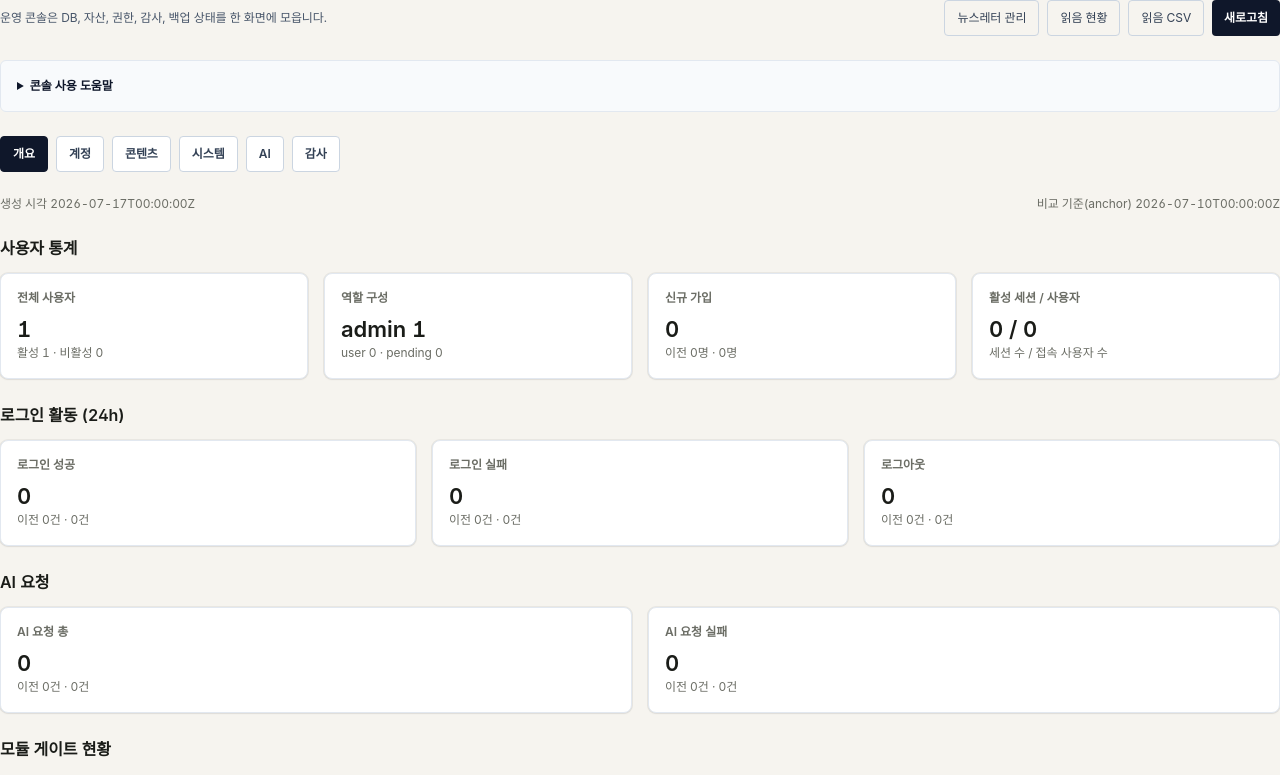
Test: re-entering an already-loaded group does not refetch (per-group cache)
Click the tab "계정" at point(80, 154), box x1=56 y1=136 x2=104 y2=172
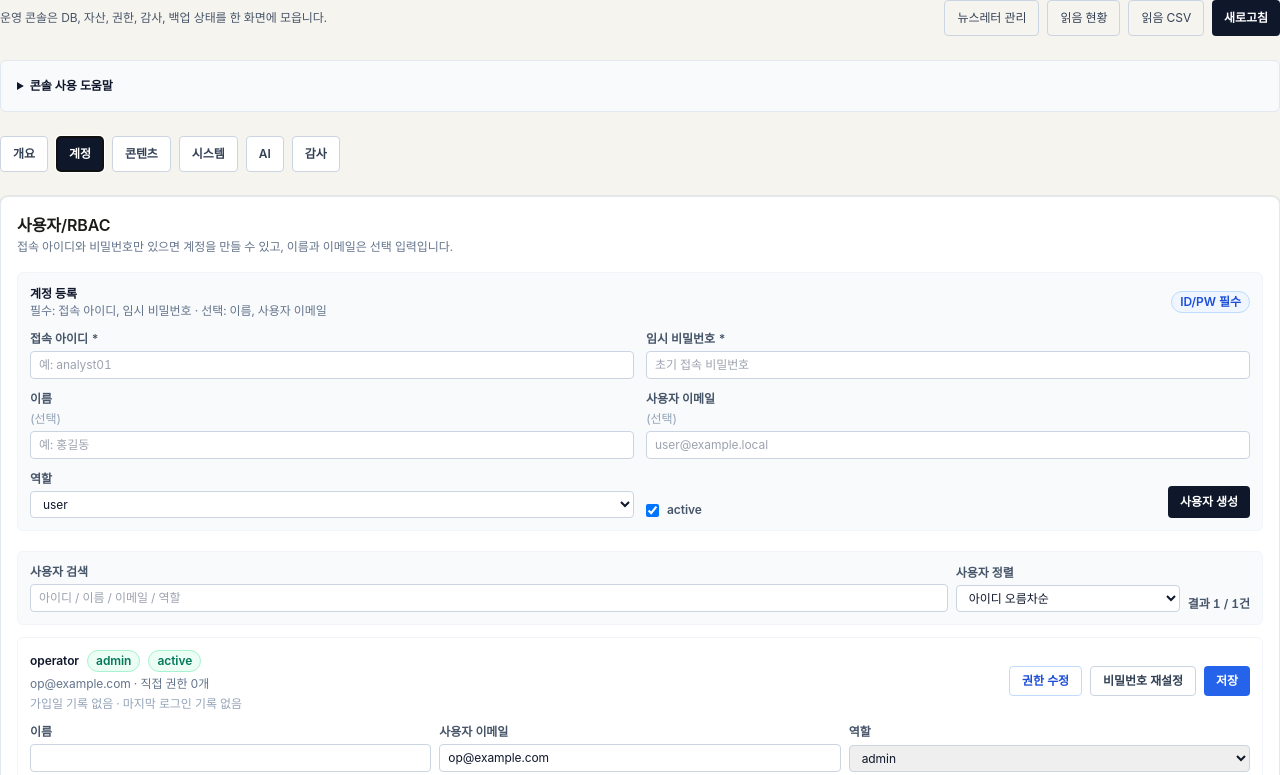
Click the tab "콘텐츠" at point(141, 154), box x1=112 y1=136 x2=171 y2=172
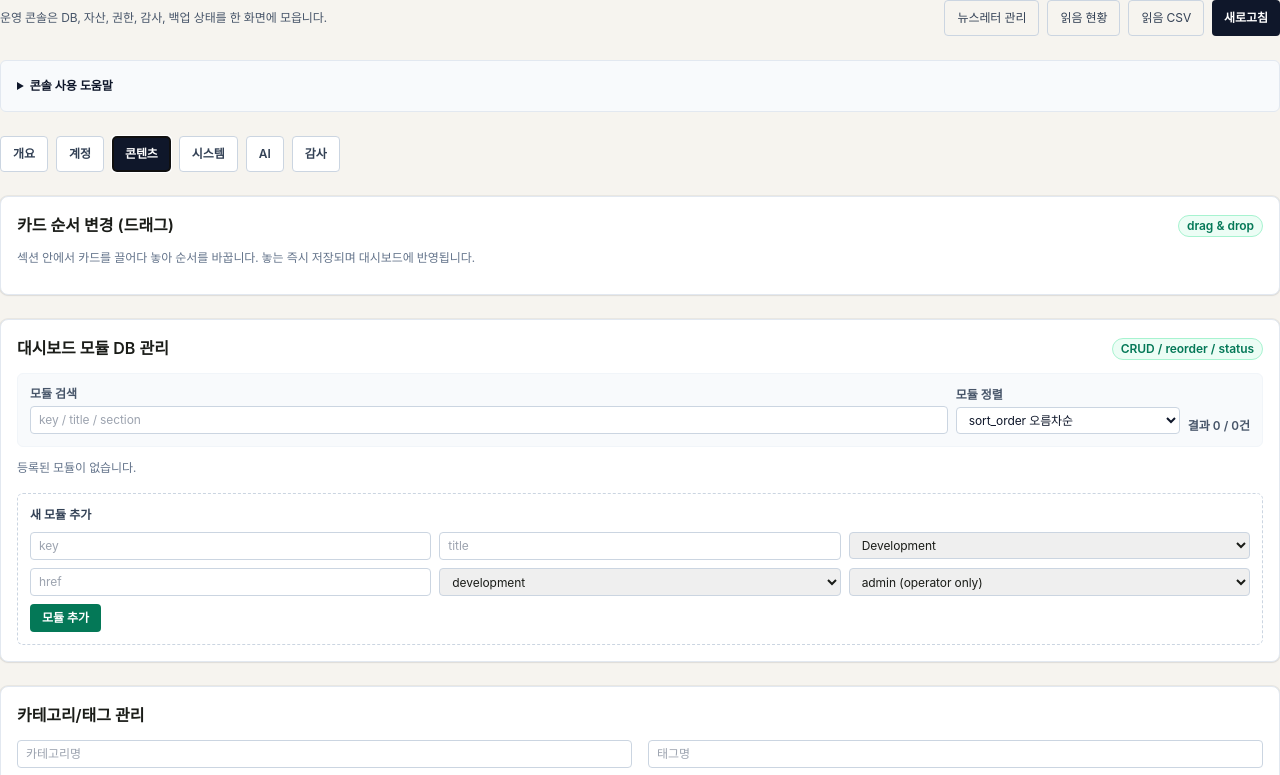
// 계정 그룹으로 되돌아가도 users/connectedUsers 등은 다시 fetch 되지 않는다.
Click the tab "계정" at point(80, 154), box x1=56 y1=136 x2=104 y2=172
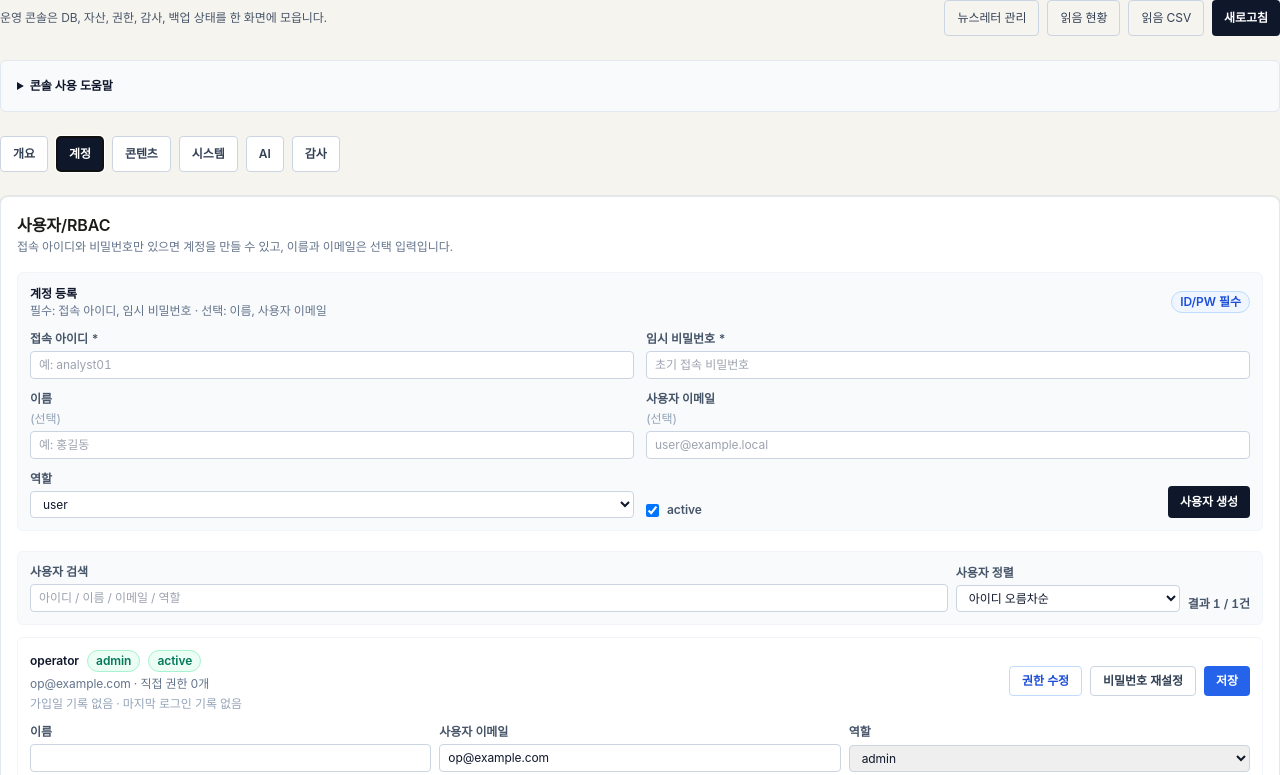
Expected: the heading "사용자/RBAC" is shown, x1=17 y1=215 x2=110 y2=235
// 개요로 되돌아가도 overview 는 다시 fetch 되지 않는다.
Click the tab "개요" at point(24, 154), box x1=0 y1=136 x2=48 y2=172
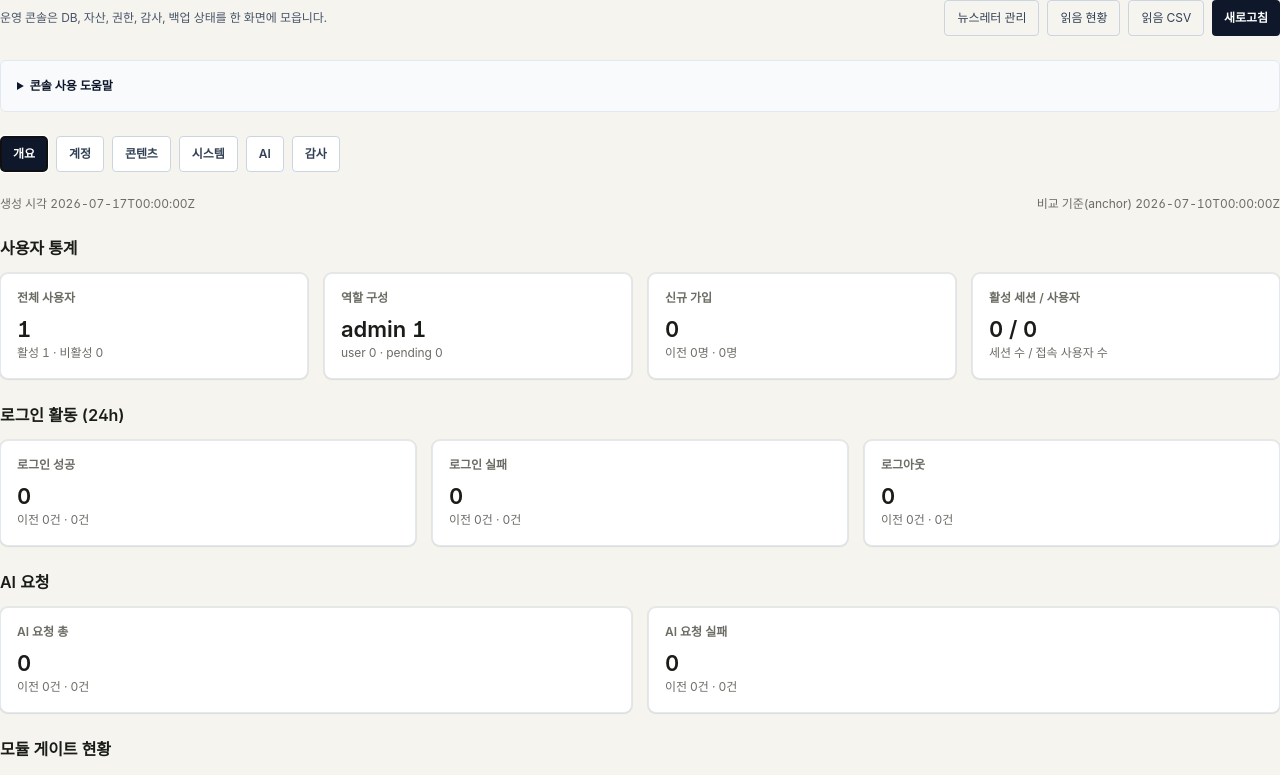
Expected: the heading "사용자 통계" is shown, x1=0 y1=238 x2=78 y2=258
